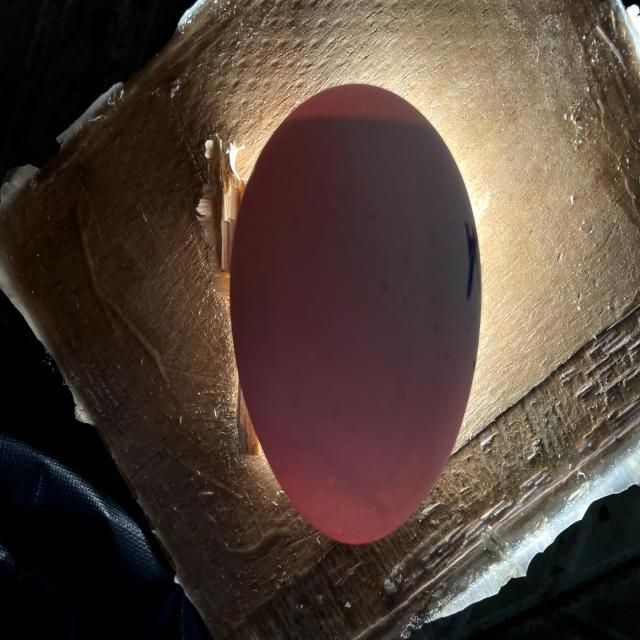fertile: (230, 85, 481, 543)
